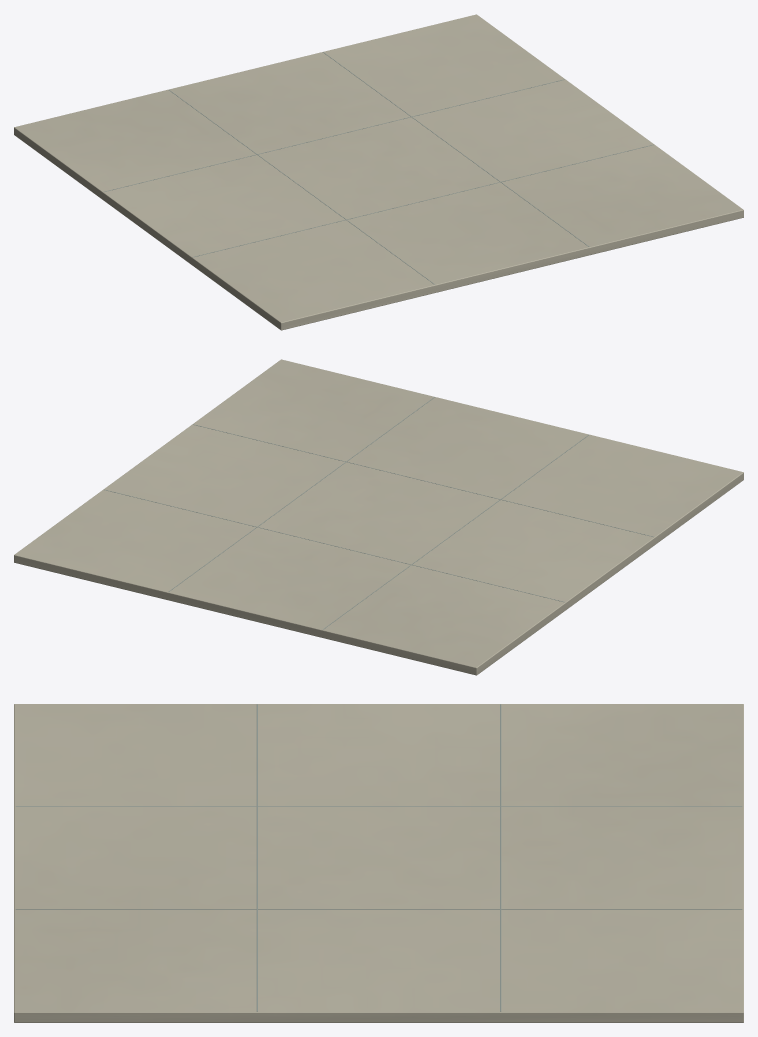
The model's file is Test_Pad.glb.
The picture shows the model from 3 angles, top to bottom: view 1: azimuth 30°, elevation 25°; view 2: azimuth 150°, elevation 25°; view 3: azimuth 270°, elevation 25°; orthographic projection. The views are drawn at different scales.
Parts seen in each view (by area): view 1: Test_Pad; view 2: Test_Pad; view 3: Test_Pad.
Part boxes in pixels (<box>): Test_Pad: <box>14,14,743,330</box>; Test_Pad: <box>14,359,743,675</box>; Test_Pad: <box>14,704,743,1022</box>.
Bounding box in the file's own units: 12 × 0.204 × 12.
Materials: 2 (1 with a texture image).
